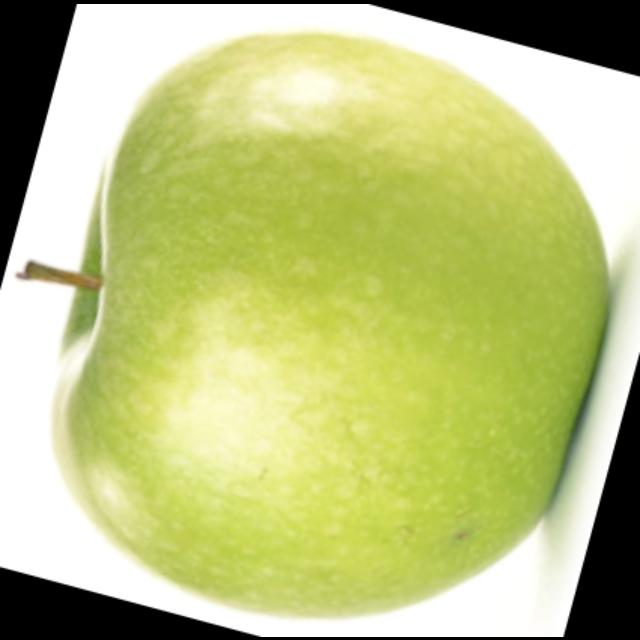Apel Segar: (70, 43, 616, 583)
